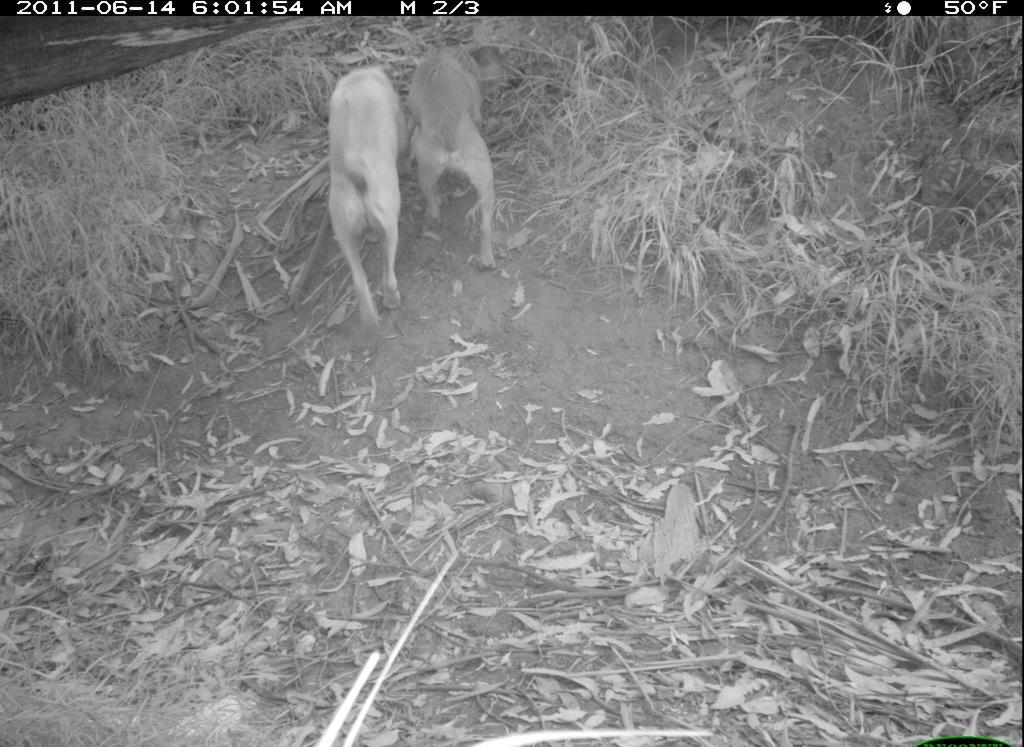dog: (408, 40, 513, 276), (321, 59, 408, 328)
